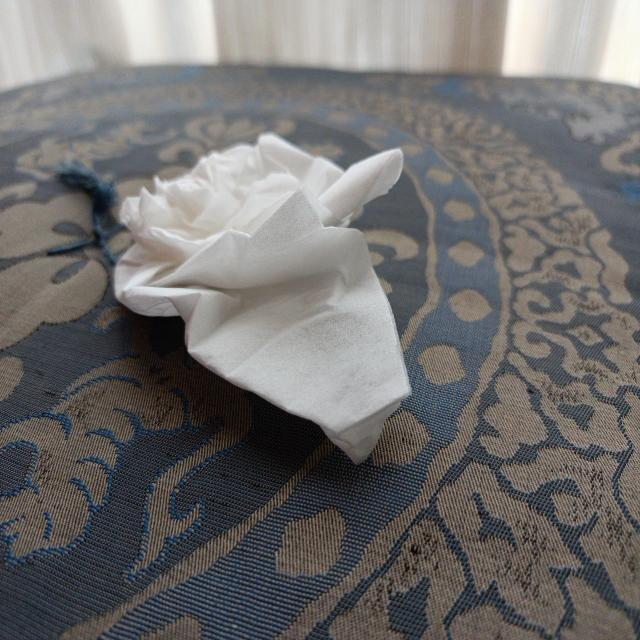Paper: (118, 124, 426, 441)
